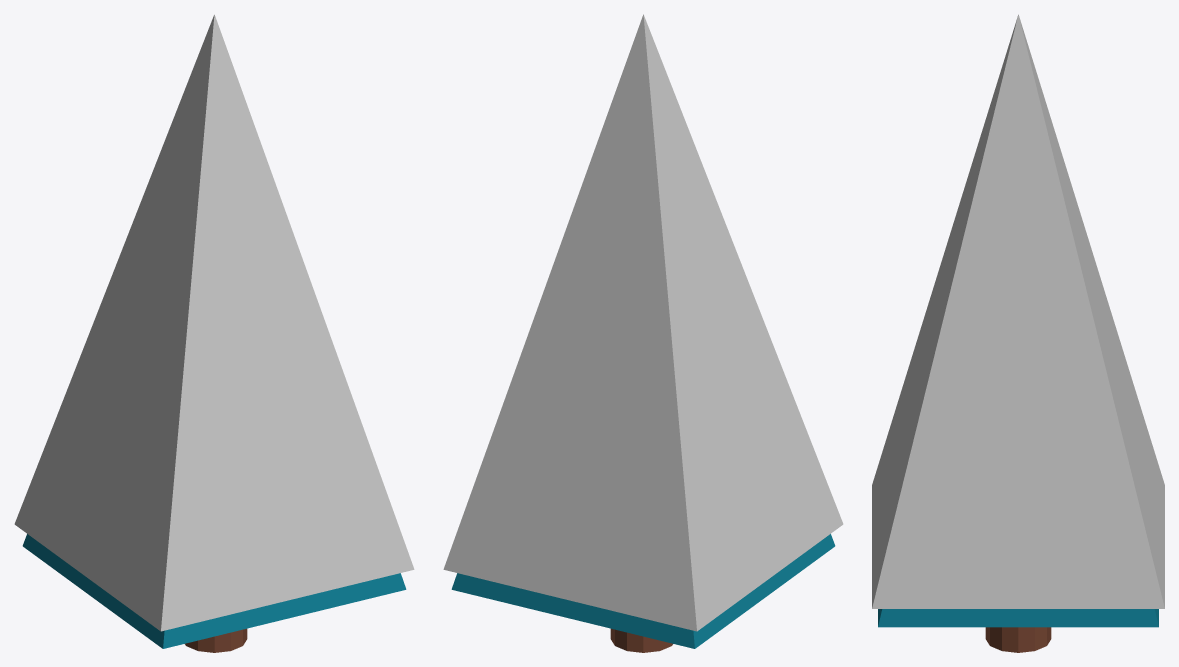
File: Tree_36_winter_blue_mat.fbx
The picture shows the model from 3 angles, left to right: view 1: azimuth 30°, elevation 25°; view 2: azimuth 150°, elevation 25°; view 3: azimuth 270°, elevation 25°; orthographic projection.
Visible parts, largest first — view 1: Tree_36_winter_blue_mat; view 2: Tree_36_winter_blue_mat; view 3: Tree_36_winter_blue_mat.
Boxes of the visible parts, x1,y1,x2,y2 form: Tree_36_winter_blue_mat: (14,14,414,652); Tree_36_winter_blue_mat: (443,14,843,652); Tree_36_winter_blue_mat: (872,14,1164,652).
Bounding box in the file's own units: 71.97 × 169 × 71.97.
